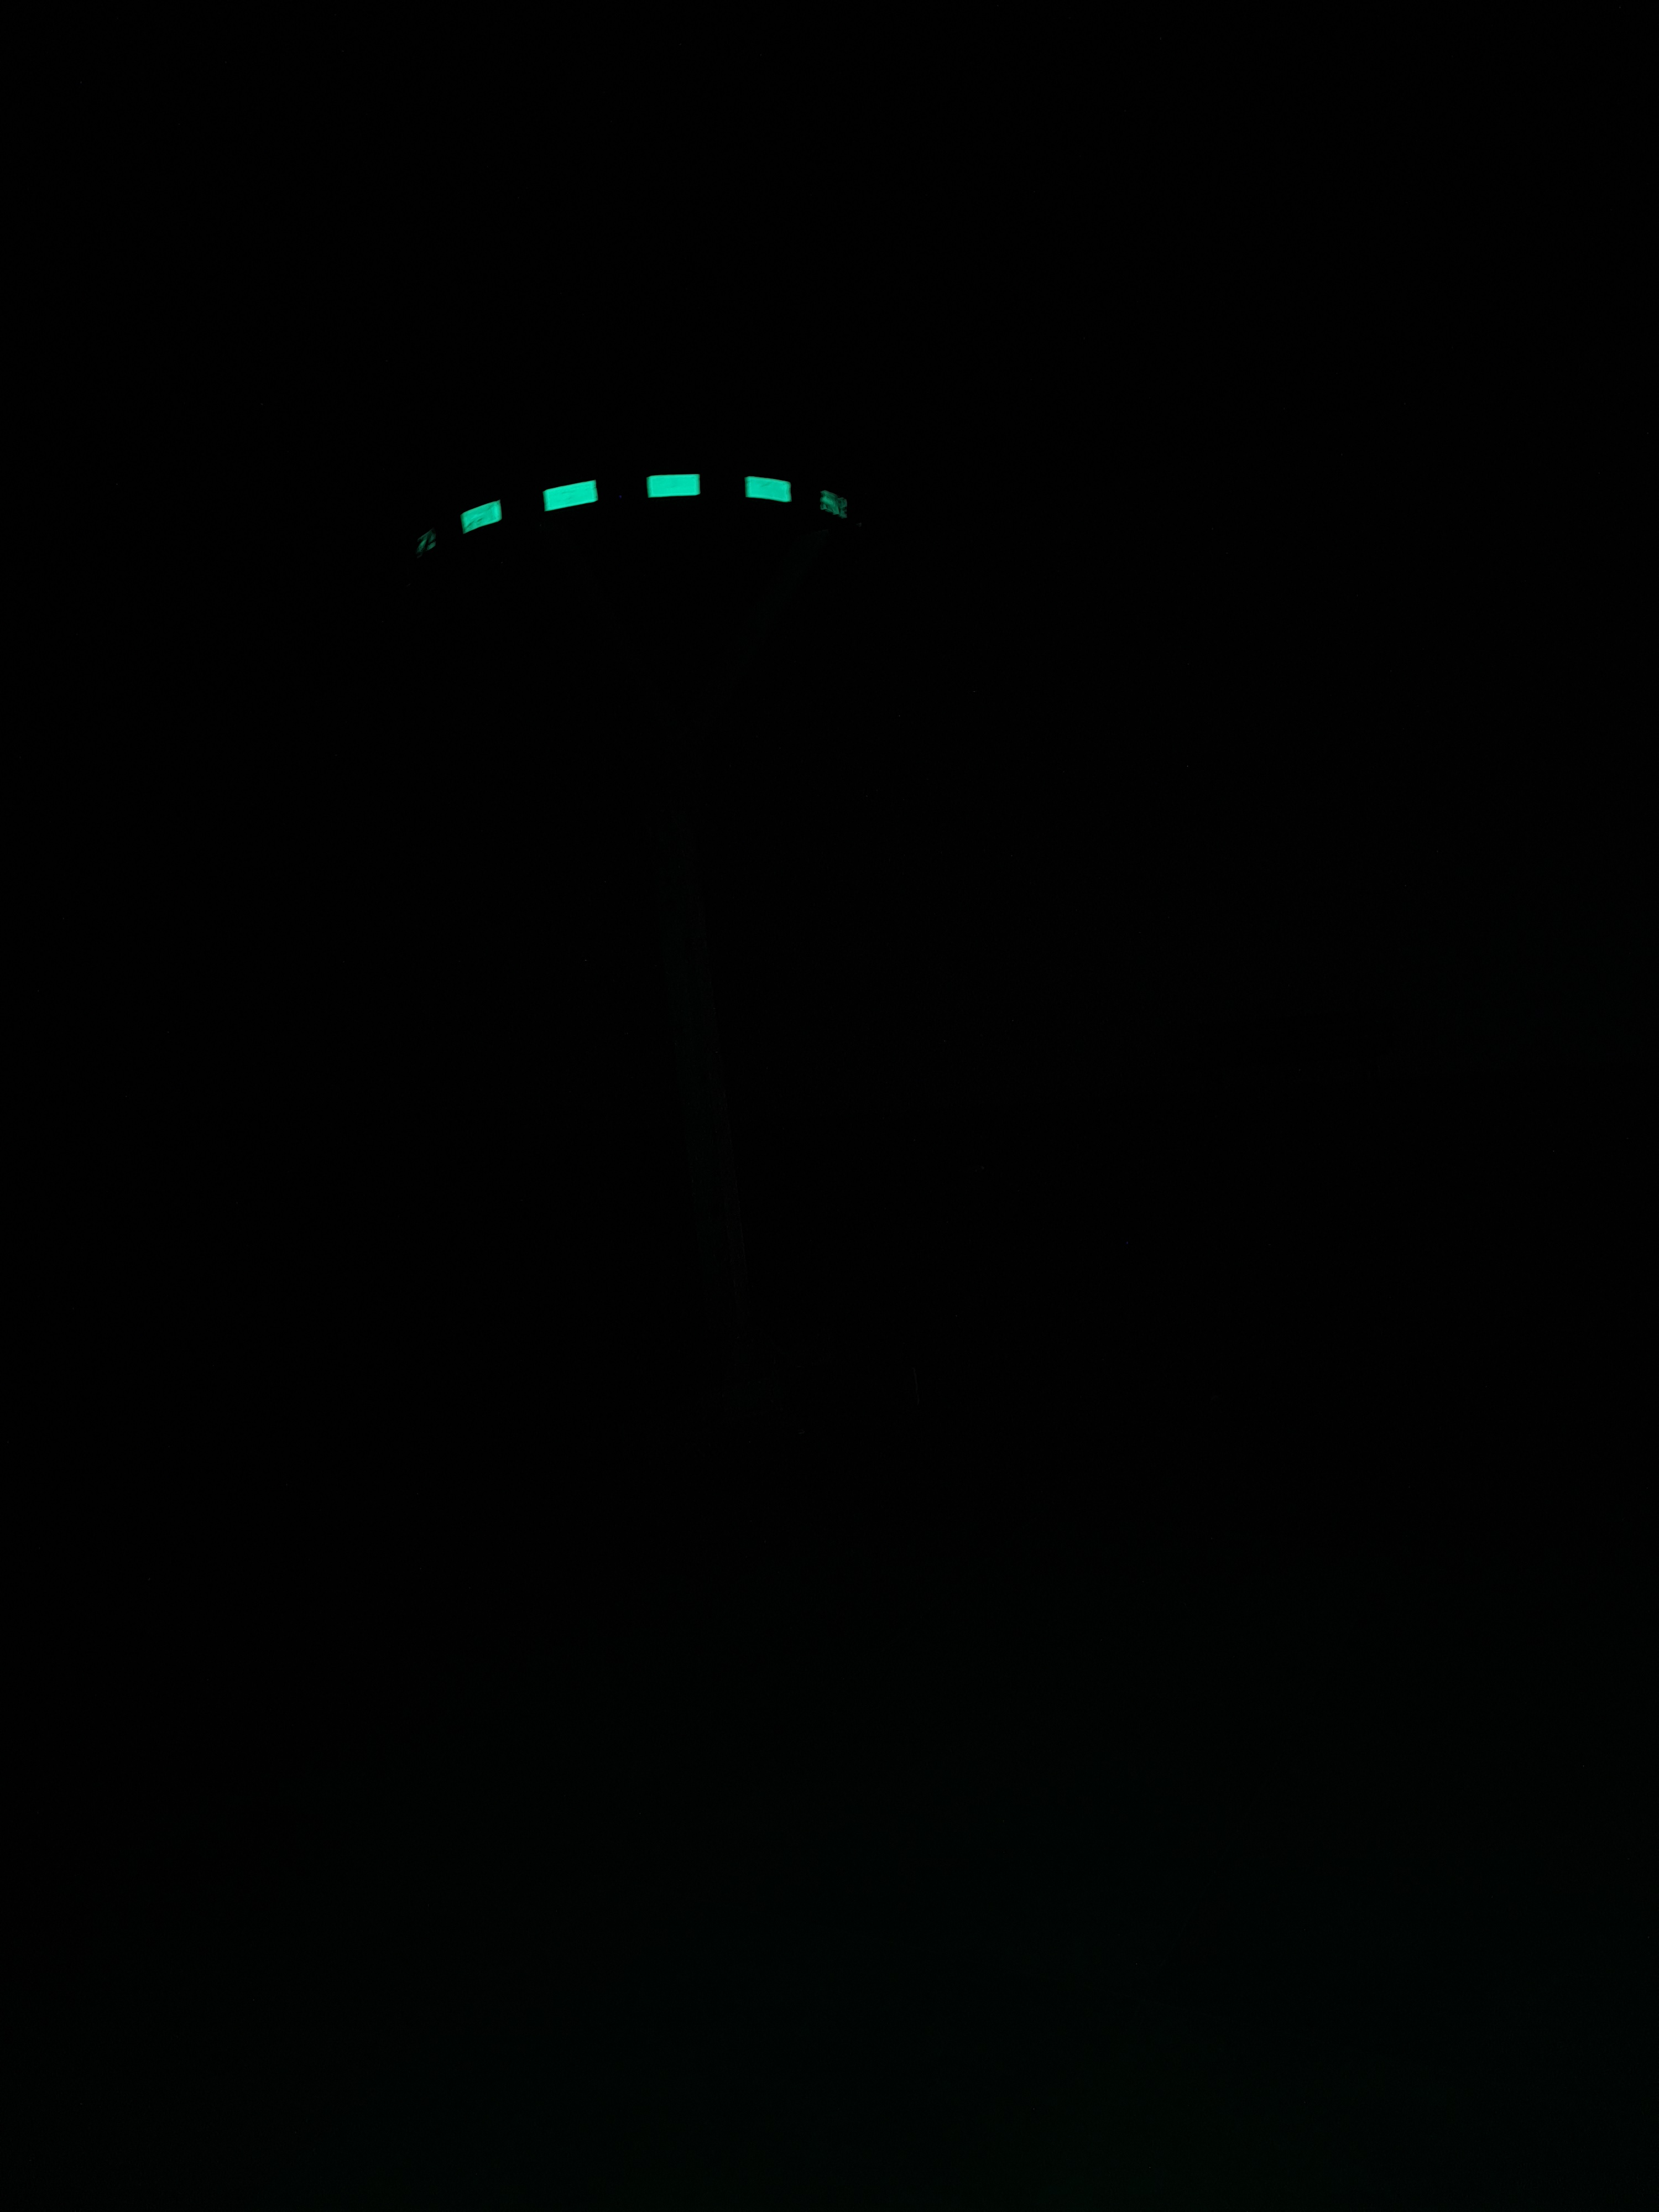hoop: (416, 472, 850, 552)
